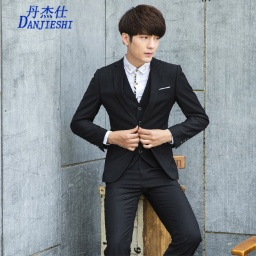face: (116, 3, 167, 65)
